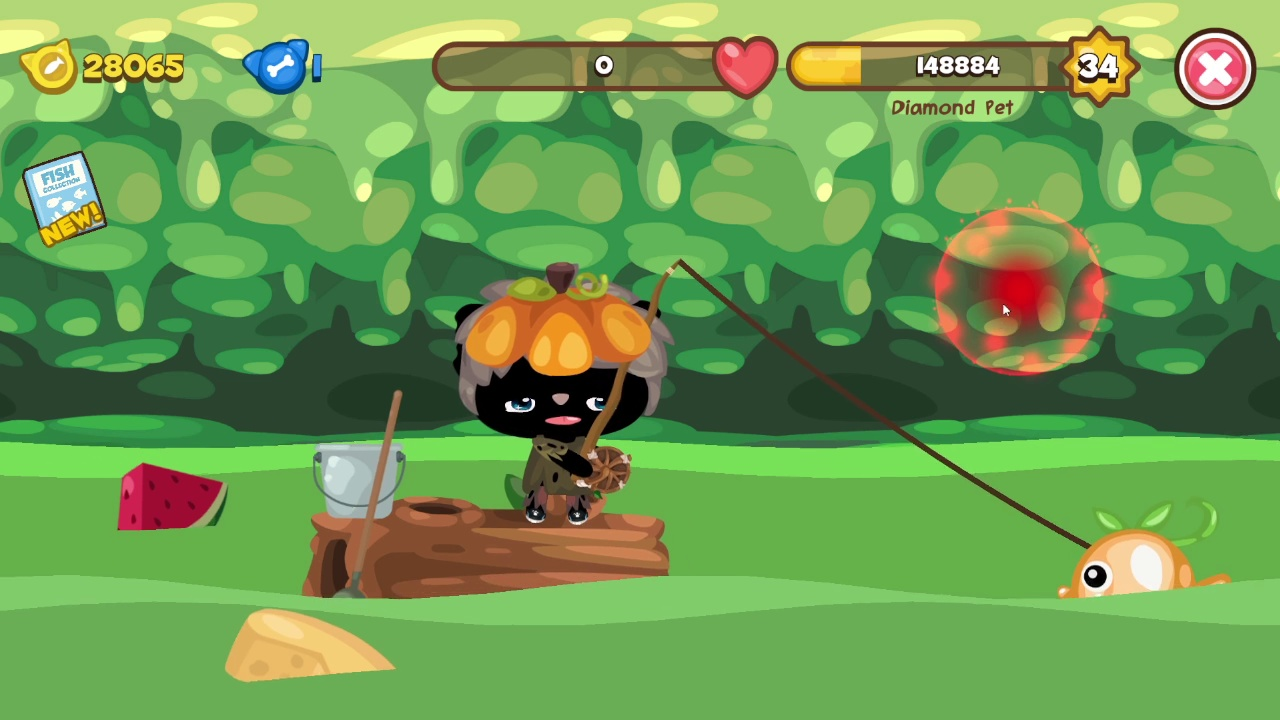point: (932, 204, 1109, 377)
